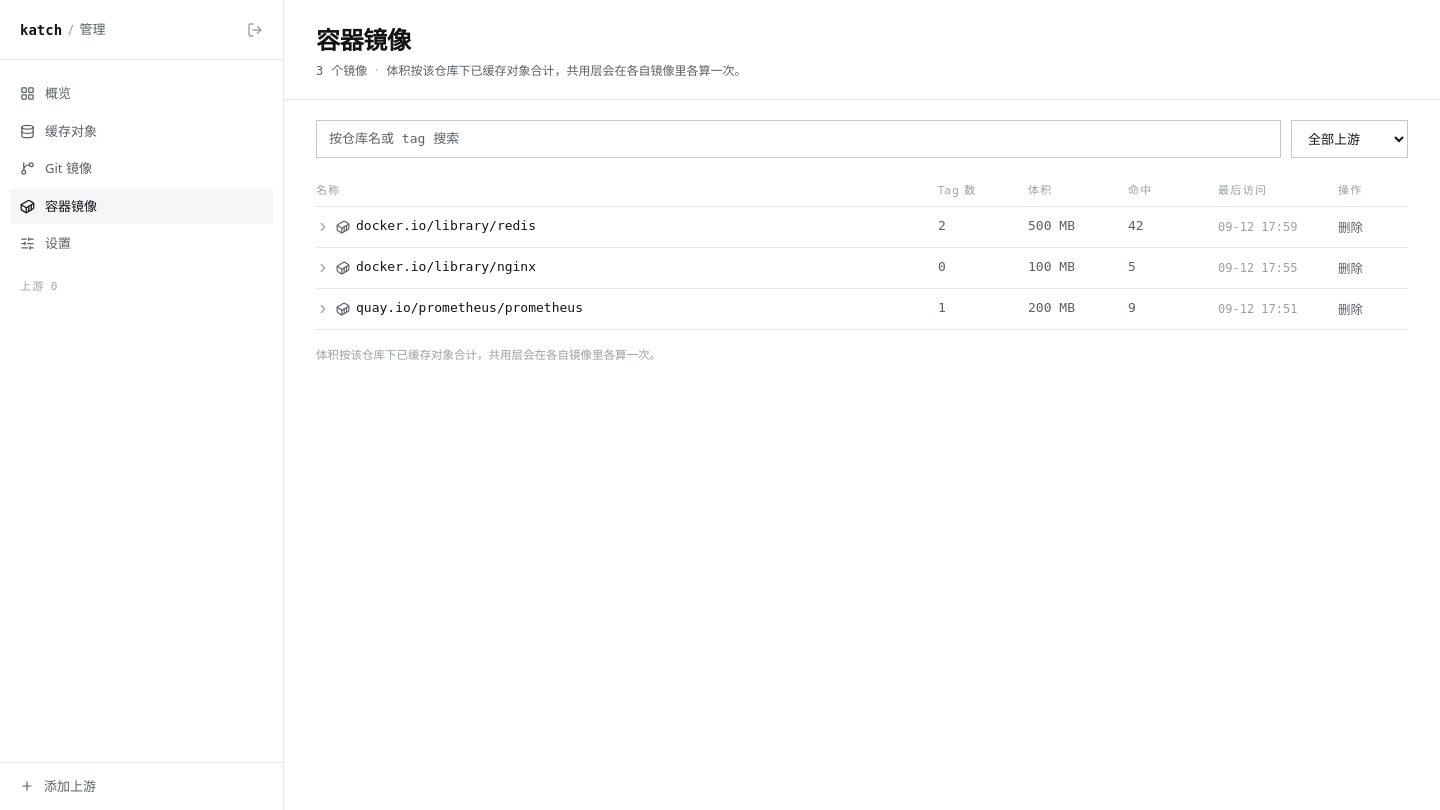
Test: 后台 · 容器镜像 › 手动展开一个镜像后拉取全部 tag：tag 名、短摘要、命中、最后访问、固定/过期/变体数标记
This screenshot has width=1440, height=810.
Expected: the table named "容器镜像" is shown, 316,174 -> 1408,330
Click the button named "展开". click: (323, 227)
box: 316,220 -> 330,234
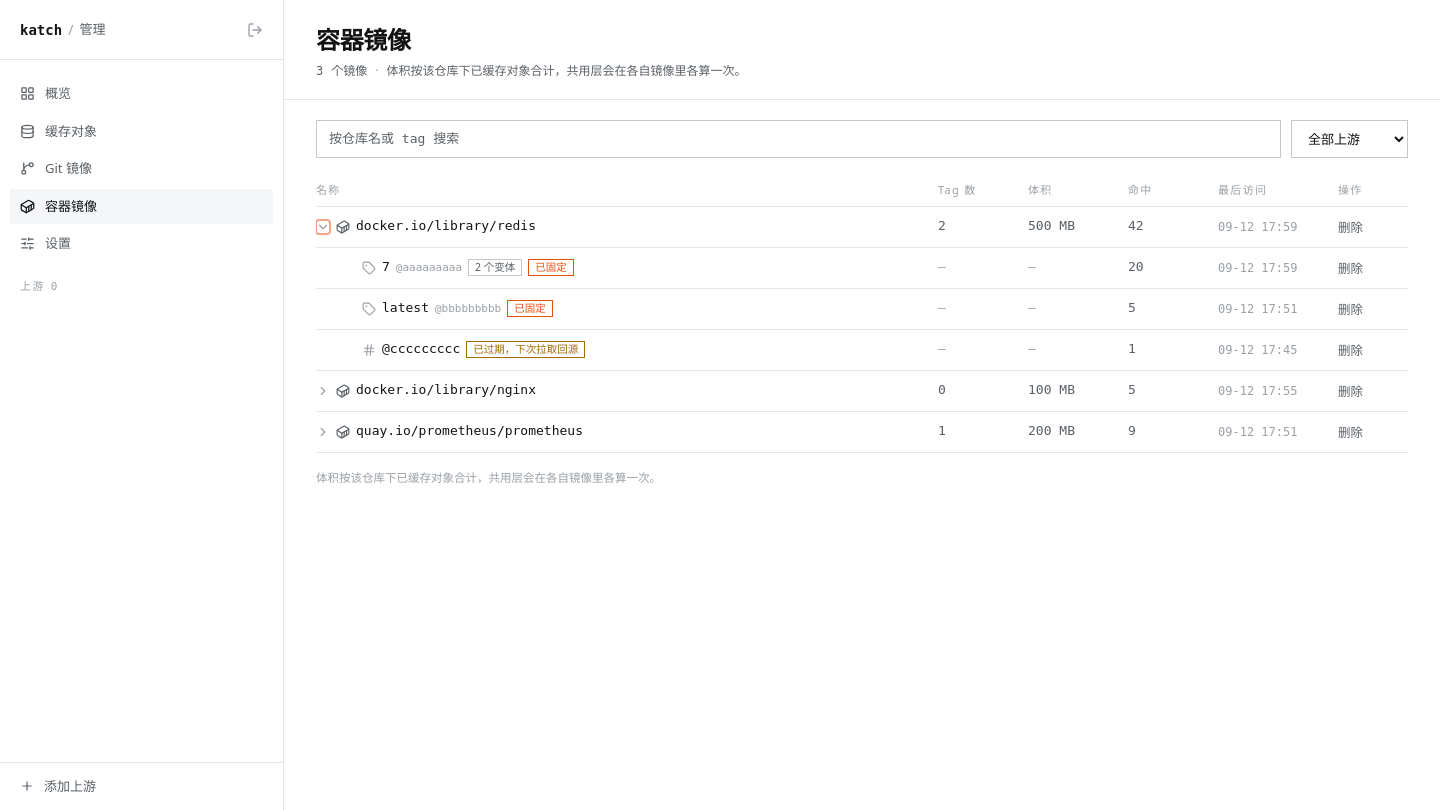
Expected: the row named "7@" is shown, 316,247 -> 1408,288
Expected: the text "2 个变体" is shown, 468,259 -> 522,276
Expected: the text "已固定" next to "@bbbbbbbbb" is shown, 514,301 -> 546,315
